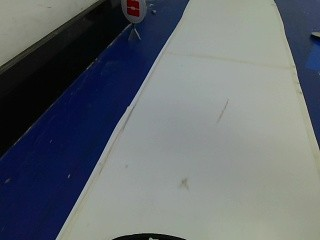company: (120, 0, 145, 22)
